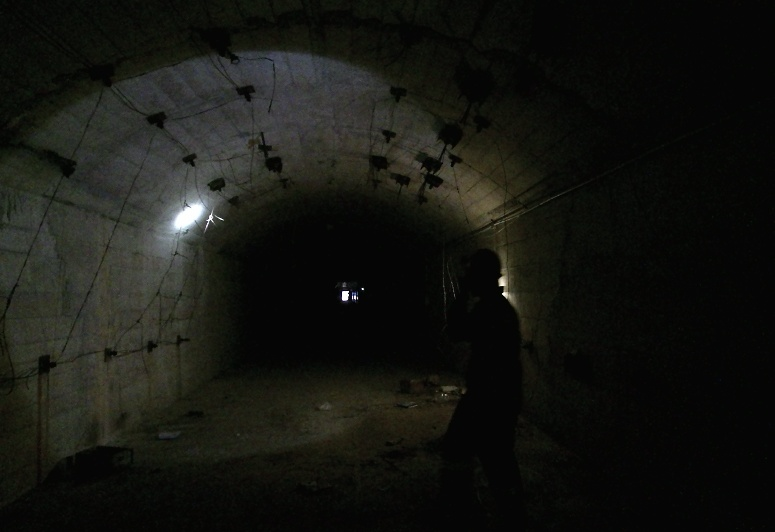person: (424, 252, 541, 532)
